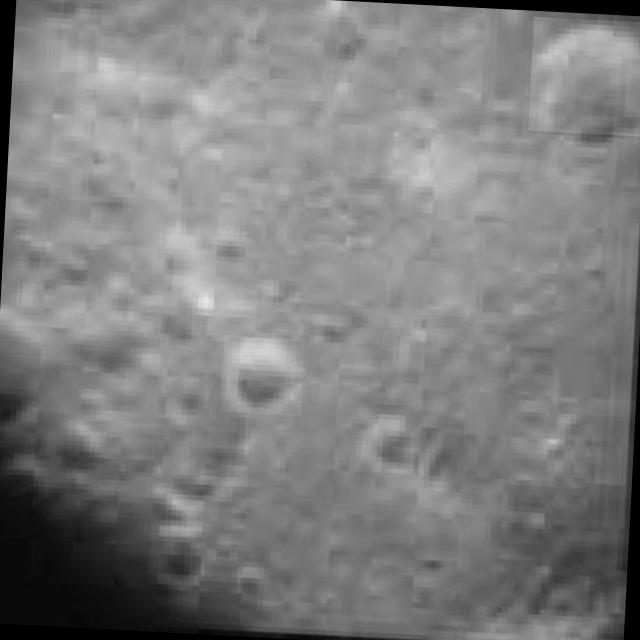crater: (528, 17, 640, 137), (221, 335, 305, 416)
